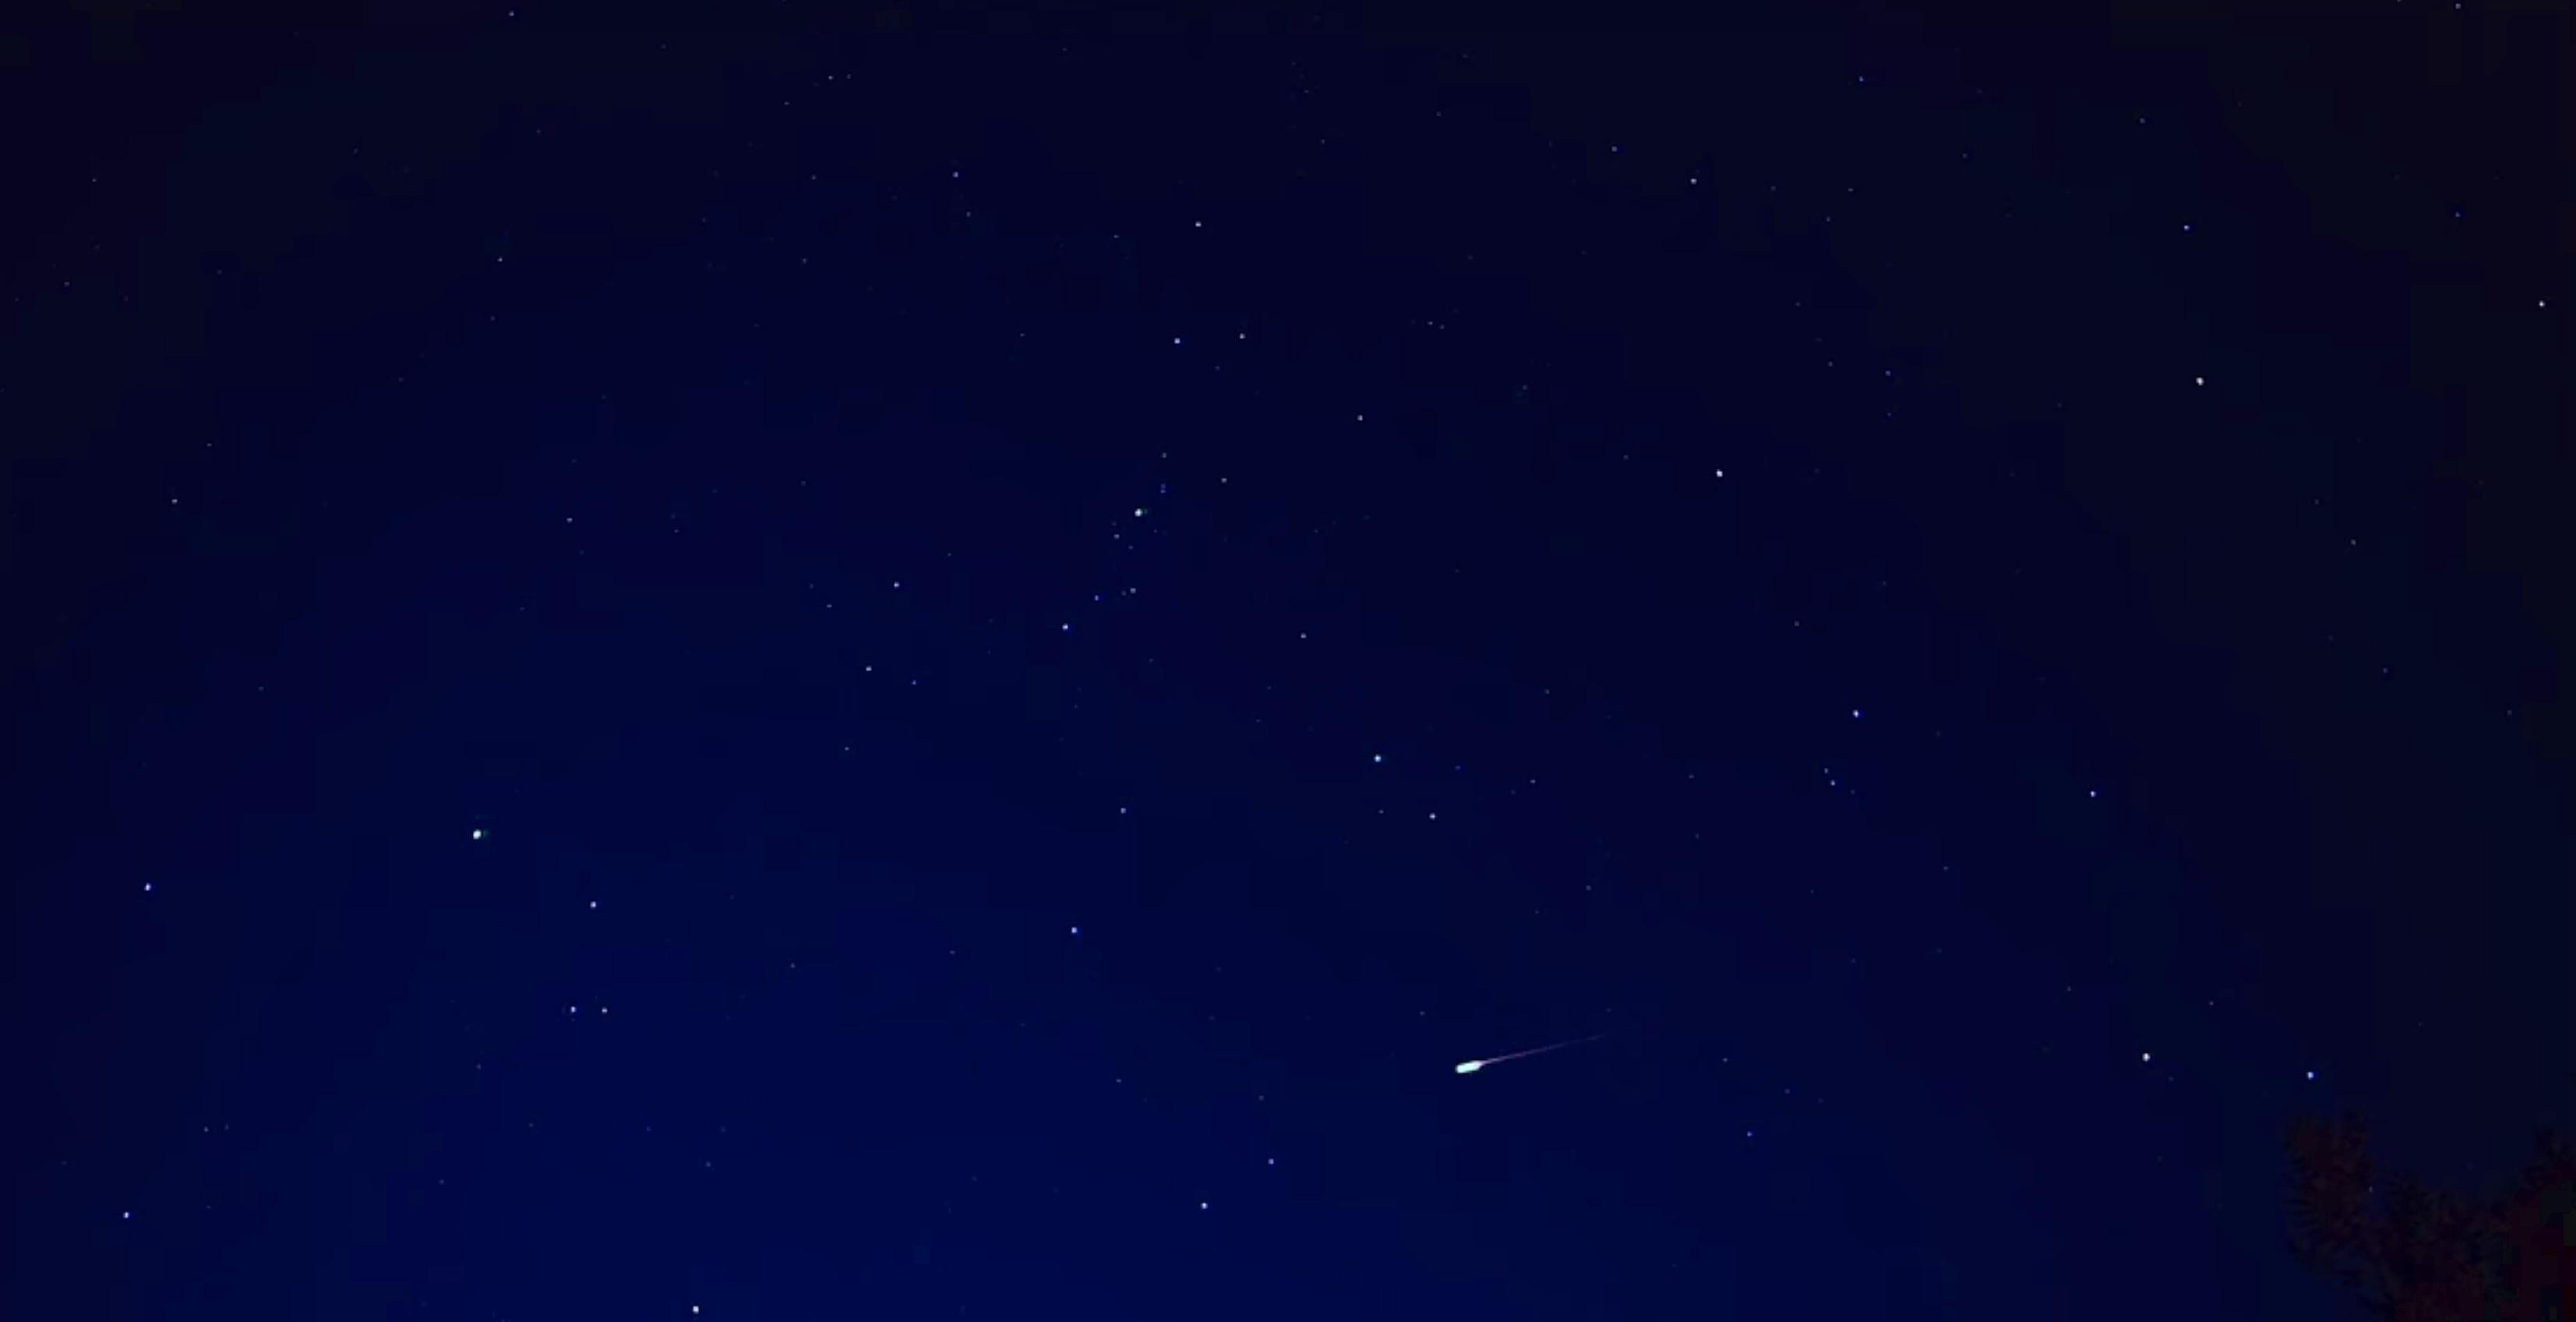meteorite: (1400, 1012, 1673, 1089)
